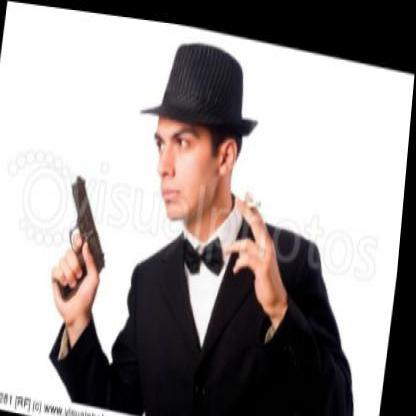pistol: (53, 168, 118, 299)
